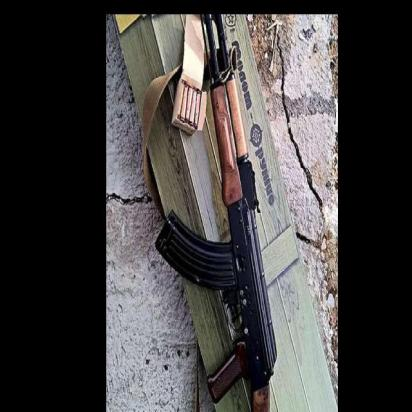Gun: (154, 13, 278, 412)
